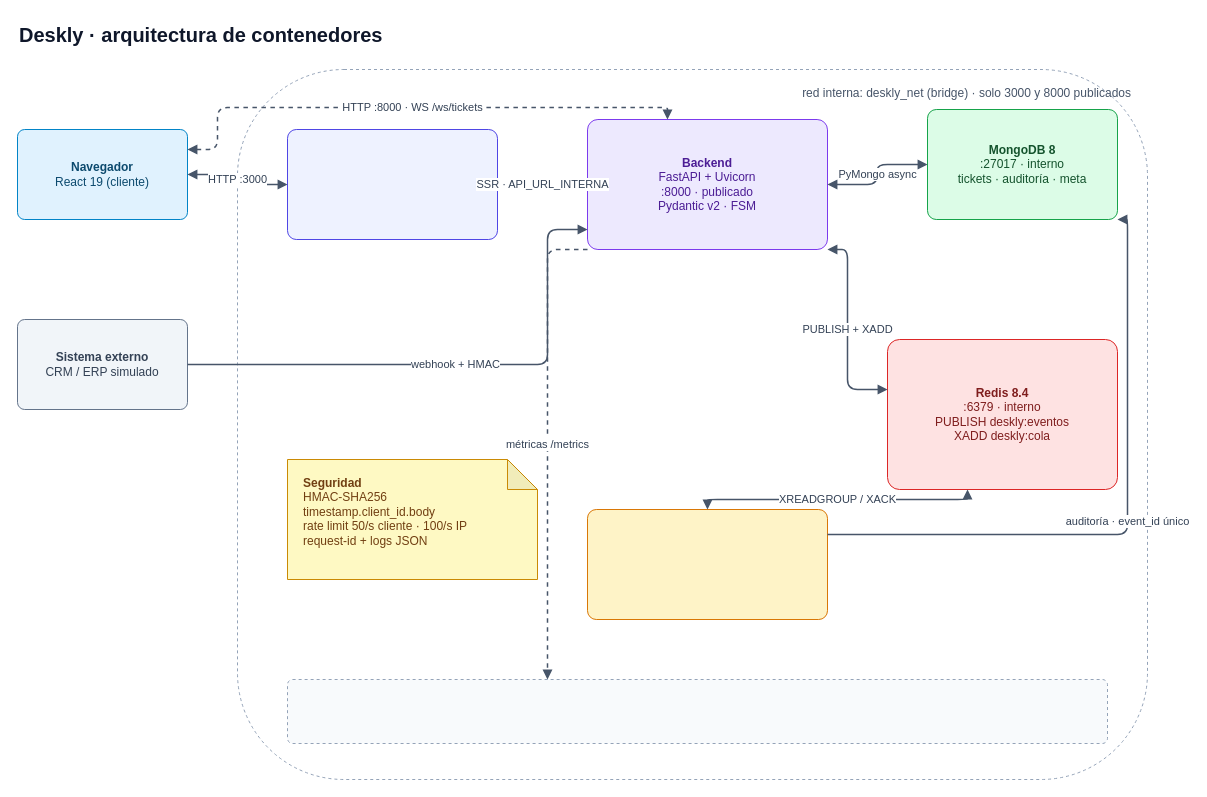
Image size: 1207x797. Some labels were removed from this diagram. Here are the shapes that lost their labels. From the top down, the box of each, then its label:
(286, 128, 498, 240): Frontend Next.js 15 · App Router :3000 · publicado
(586, 508, 828, 620): Worker consumer group XACK · XAUTOCLAIM · DLQ
(286, 678, 1108, 744): Perfil obs (opcional) Prometheus · Grafana · cAdvisor · exporters
